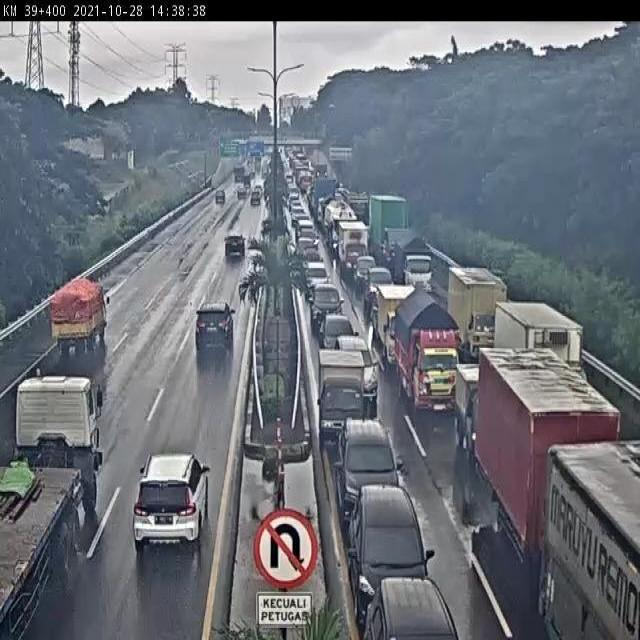big truck: (474, 345, 622, 595), (0, 377, 93, 624), (552, 437, 640, 640), (493, 297, 568, 395), (324, 199, 362, 260)
car: (338, 484, 445, 604), (132, 448, 213, 549), (358, 584, 481, 640), (340, 417, 404, 512), (191, 298, 243, 370), (337, 336, 379, 403), (368, 267, 395, 321), (314, 286, 344, 334), (324, 313, 359, 352), (305, 259, 332, 300), (298, 221, 326, 252), (354, 257, 380, 288), (222, 236, 244, 265), (298, 238, 316, 250)
small truck: (37, 268, 123, 363), (393, 298, 461, 418), (318, 352, 386, 449), (448, 268, 507, 371), (379, 287, 425, 373), (459, 357, 496, 447), (396, 238, 436, 294), (340, 225, 370, 268)
